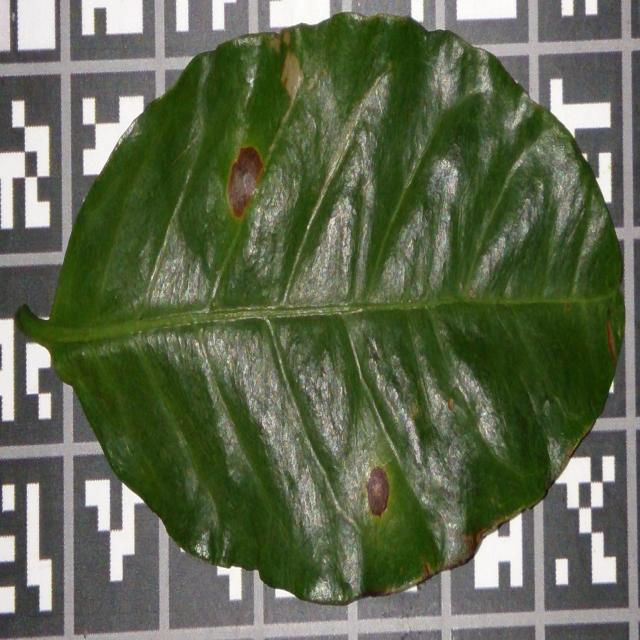Enfermedad-Mancha-de-hierro: (15, 15, 630, 609)
